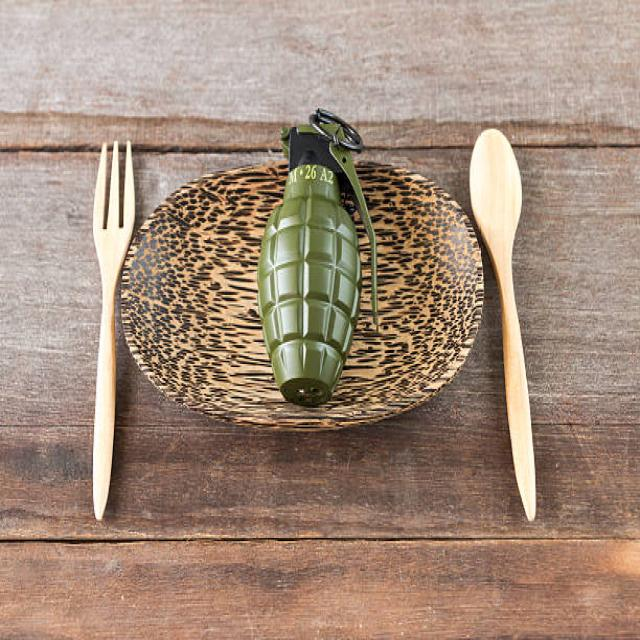grenade: (252, 99, 387, 436)
